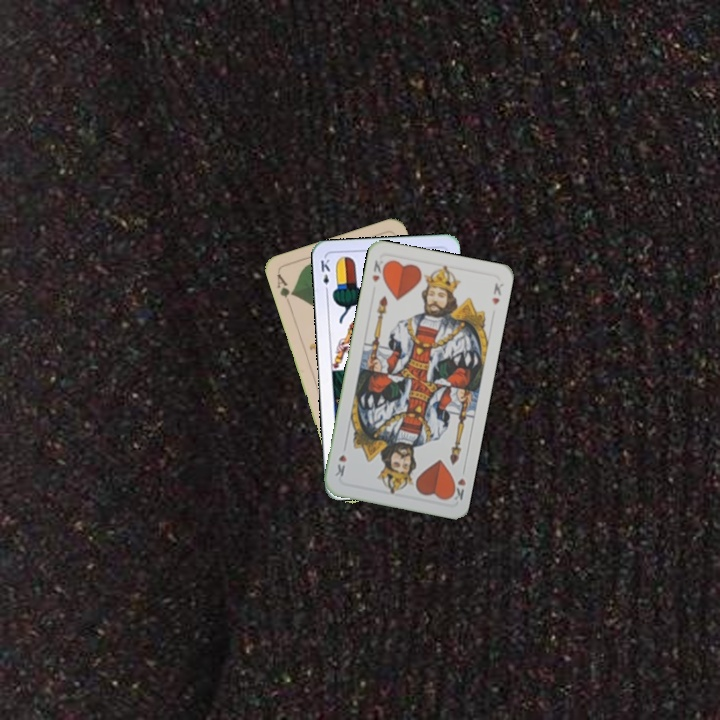EK: (317, 255, 333, 296)
GA: (273, 269, 297, 301)
HK: (446, 463, 468, 503), (368, 256, 386, 285)
